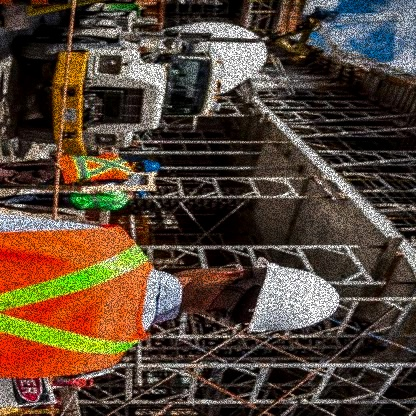blue: (137, 157, 163, 178), (132, 189, 148, 200)
vest: (1, 224, 162, 382), (56, 151, 132, 186), (68, 189, 130, 214)
white: (240, 254, 340, 336)
